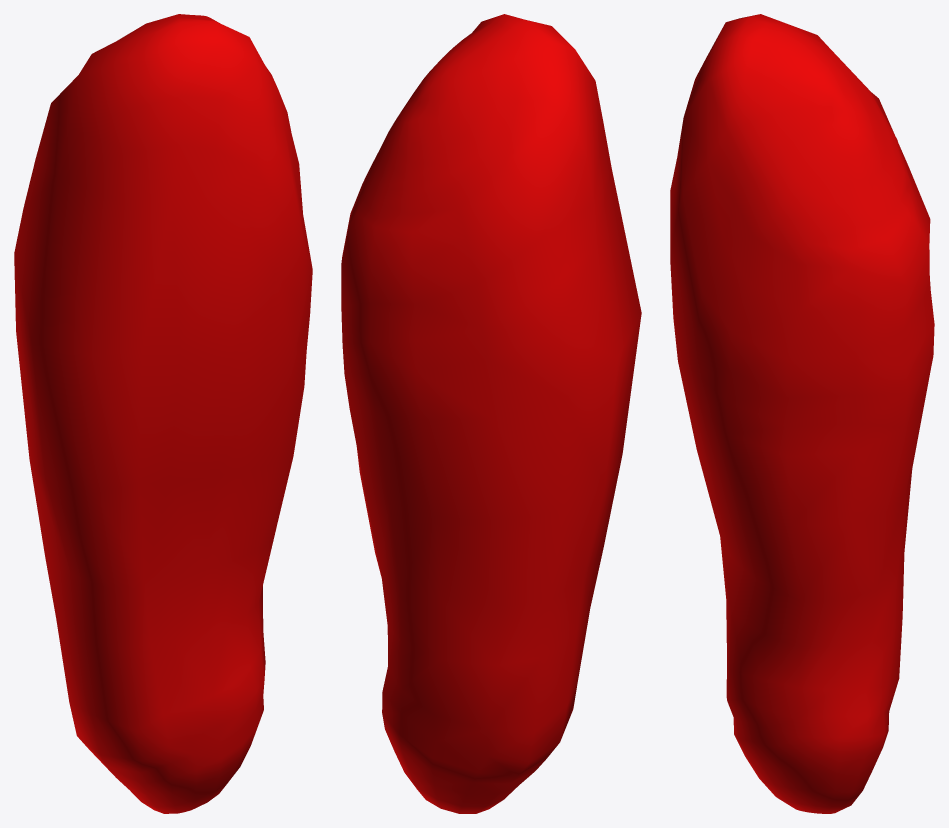
Rendered from LegUpper.dae.
The picture shows the model from 3 angles, left to right: view 1: azimuth 30°, elevation 25°; view 2: azimuth 150°, elevation 25°; view 3: azimuth 270°, elevation 25°; orthographic projection. The views are drawn at different scales.
Parts seen in each view (by area): view 1: LegUpper; view 2: LegUpper; view 3: LegUpper.
Boxes of the visible parts, bbox=[...] form: LegUpper: bbox=[14, 14, 312, 813]; LegUpper: bbox=[341, 14, 641, 813]; LegUpper: bbox=[670, 14, 934, 813].
Bounding box in the file's own units: 0.1807 × 0.164 × 0.5337.
